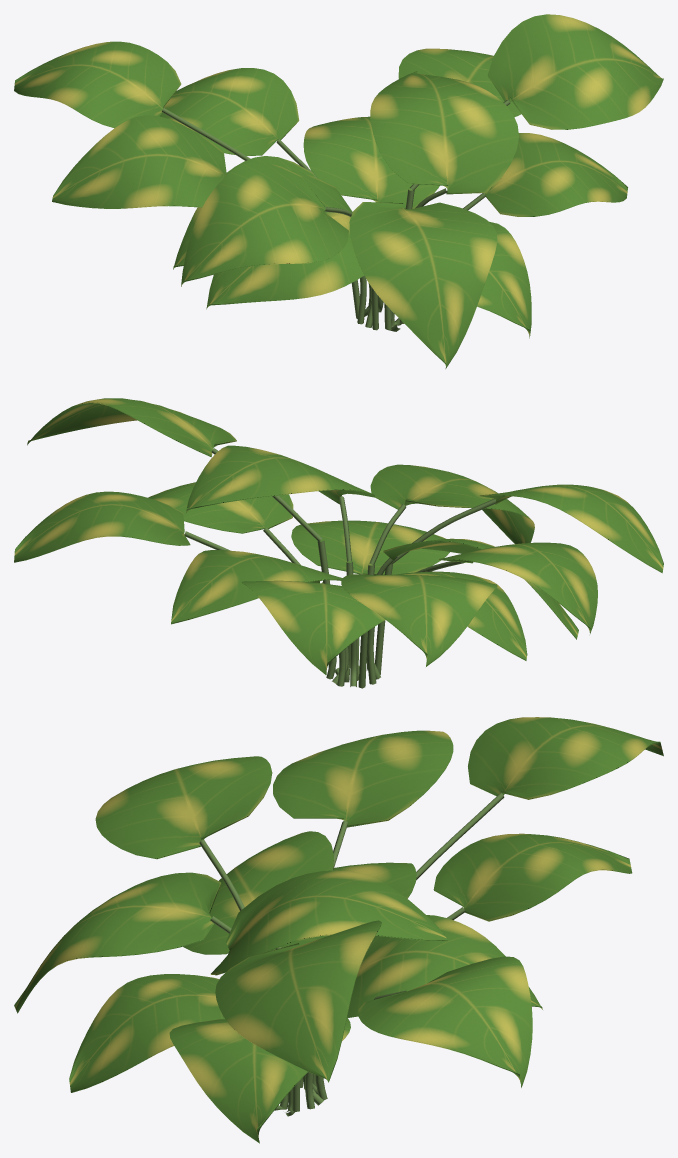
Rendered from pothos-stage-3.glb.
The picture shows the model from 3 angles, top to bottom: view 1: azimuth 30°, elevation 25°; view 2: azimuth 150°, elevation 25°; view 3: azimuth 270°, elevation 25°; orthographic projection. The views are drawn at different scales.
Parts seen in each view (by area): view 1: Leaf_5, Leaf_11, Leaf_8, Leaf_10, Leaf_7, Leaf_12, Leaf_9, Leaf_3, Leaf_2, Leaf_1, Leaf_0, Leaf_6 (+2 smaller); view 2: Leaf_12, Leaf_6, Leaf_9, Leaf_8, Leaf_1, Leaf_7, Leaf_5, PlantBranches, Leaf_0, Leaf_10, Leaf_11, Leaf_3 (+2 smaller); view 3: Leaf_11, Leaf_6, Leaf_7, Leaf_10, Leaf_8, Leaf_12, Leaf_9, Leaf_5, Leaf_0, Leaf_3, Leaf_1, Leaf_2 (+2 smaller).
Part boxes in pixels (x1,y1,x2,y2): Leaf_5: (349,202,497,368); Leaf_11: (487,14,663,129); Leaf_8: (370,71,518,194); Leaf_10: (181,161,348,286); Leaf_7: (52,115,226,208); Leaf_12: (14,41,181,128); Leaf_9: (160,68,299,155); Leaf_3: (484,133,627,216); Leaf_2: (206,169,364,309); Leaf_1: (303,116,439,208); Leaf_0: (477,221,531,338); Leaf_6: (398,48,521,117); Leaf_12: (341,574,497,666); Leaf_6: (14,491,190,562); Leaf_9: (241,580,385,675); Leaf_8: (186,445,374,512); Leaf_1: (171,550,342,624); Leaf_7: (439,542,597,633); Leaf_5: (370,464,534,543); PlantBranches: (184,448,496,688); Leaf_0: (291,520,449,575); Leaf_10: (479,484,663,573); Leaf_11: (27,398,236,457); Leaf_3: (148,482,293,533); Leaf_11: (215,920,381,1082); Leaf_6: (358,956,532,1087); Leaf_7: (273,730,453,827); Leaf_10: (95,756,272,859); Leaf_8: (211,870,447,975); Leaf_12: (468,717,663,799); Leaf_9: (433,833,632,921); Leaf_5: (14,872,221,1013); Leaf_0: (69,974,224,1092); Leaf_3: (169,1017,350,1143); Leaf_1: (347,915,542,1017); Leaf_2: (183,831,333,954).
Bounding box in the file's own units: 2.3 × 0.9254 × 1.85.
2 materials, 1 textured.
